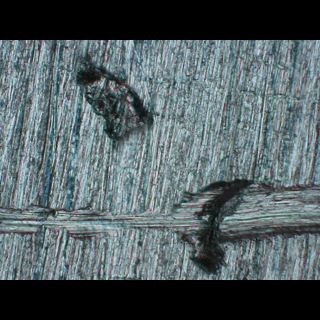d: (0, 173, 318, 275), (70, 56, 157, 144)
